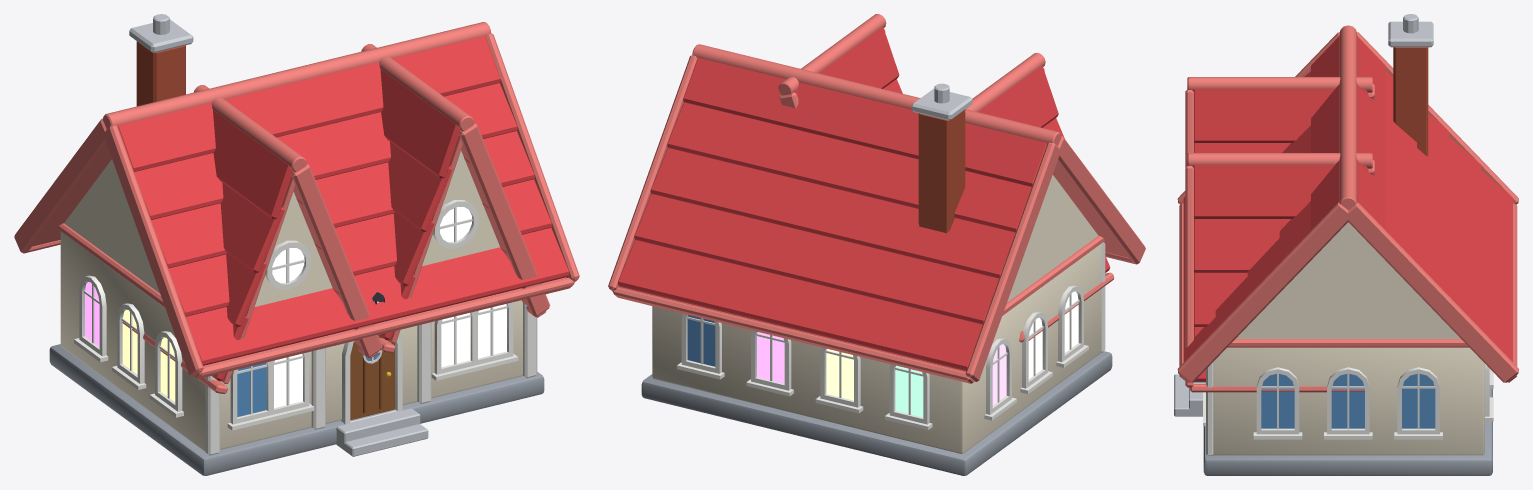
Rendered from casinha_telhado_vermelho.glb.
The picture shows the model from 3 angles, left to right: view 1: azimuth 30°, elevation 25°; view 2: azimuth 150°, elevation 25°; view 3: azimuth 270°, elevation 25°; orthographic projection. The views are drawn at different scales.
Visible parts, largest first — view 1: casinha_telhado_vermelho; view 2: casinha_telhado_vermelho; view 3: casinha_telhado_vermelho.
Boxes of the visible parts, x1=… form: casinha_telhado_vermelho: x1=14, y1=14, x2=579, y2=475; casinha_telhado_vermelho: x1=608, y1=14, x2=1145, y2=475; casinha_telhado_vermelho: x1=1174, y1=14, x2=1518, y2=475.
Bounding box in the file's own units: 10.54 × 9.52 × 8.83.
7 materials, 1 textured.
